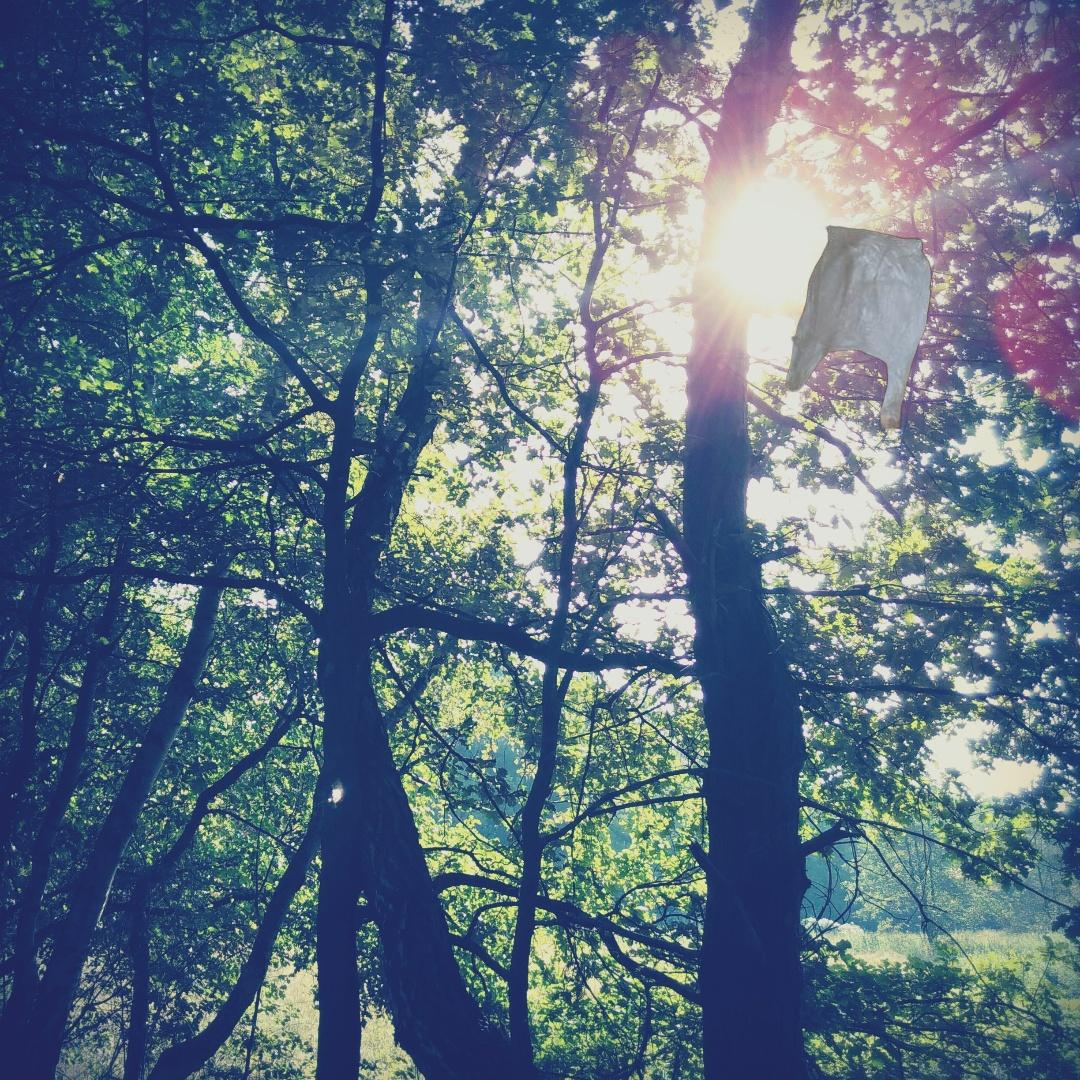plastic-bag: (783, 224, 932, 431)
